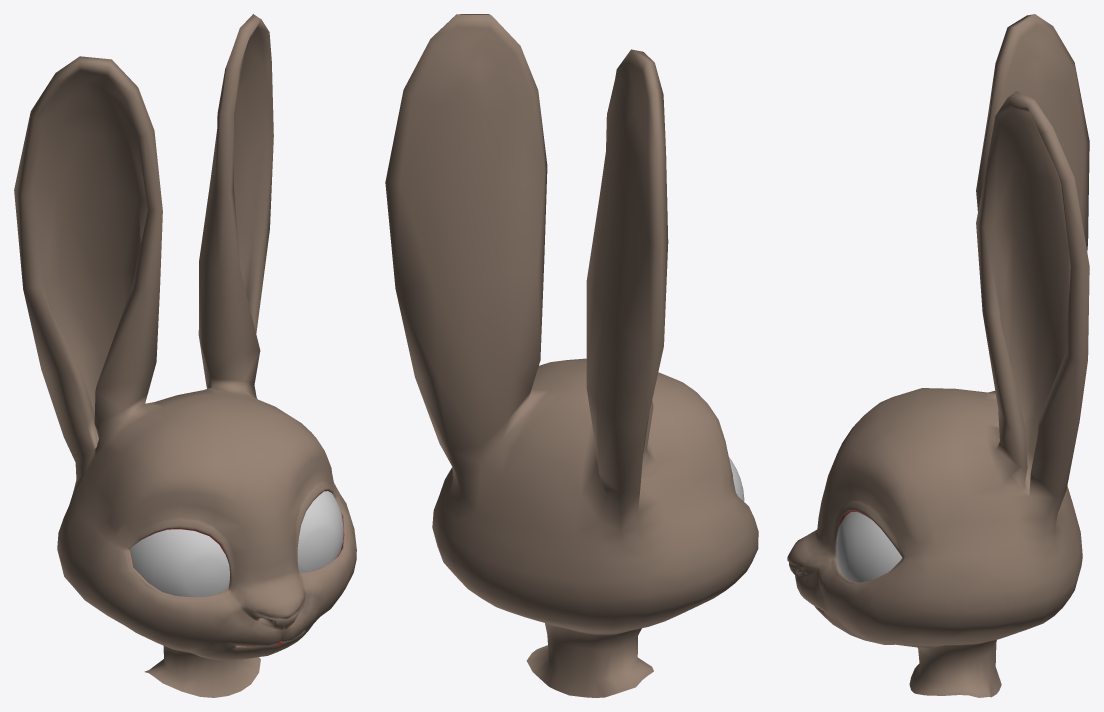
File: judy.obj
The picture shows the model from 3 angles, left to right: view 1: azimuth 30°, elevation 25°; view 2: azimuth 150°, elevation 25°; view 3: azimuth 270°, elevation 25°; orthographic projection. The views are drawn at different scales.
Parts seen in each view (by area): view 1: Head_Cube.001, Cornea.R_Sphere.003, Cornea.L_Sphere.001; view 2: Head_Cube.001; view 3: Head_Cube.001, Cornea.L_Sphere.001.
Boxes of the visible parts, box(x1,y1,x2,y2) form: Head_Cube.001: box(14, 14, 356, 697); Cornea.R_Sphere.003: box(130, 529, 229, 596); Cornea.L_Sphere.001: box(297, 491, 343, 572); Head_Cube.001: box(385, 14, 758, 697); Head_Cube.001: box(787, 14, 1089, 697); Cornea.L_Sphere.001: box(836, 512, 902, 582).
Bounding box in the file's own units: 0.2811 × 0.6418 × 0.2801.
